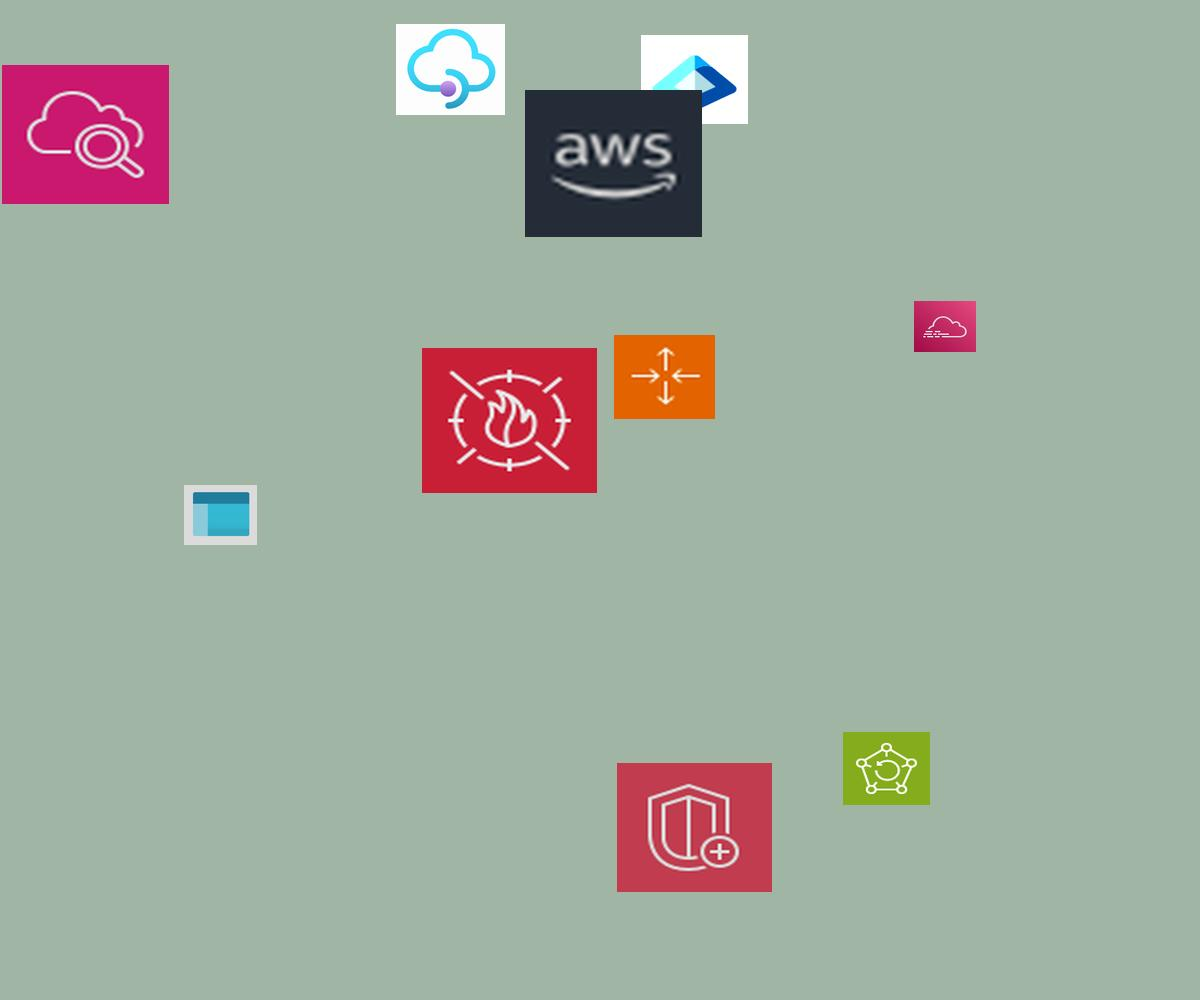AWS-Backup: (843, 732, 930, 805)
AWS-Cloud-logo: (525, 90, 702, 237)
AWS-CloudTrail: (914, 301, 976, 352)
AWS-CloudWatch: (2, 65, 169, 204)
AWS-Scaling-group: (614, 335, 715, 419)
AWS-Shield: (617, 763, 772, 892)
AWS-WAF: (422, 348, 597, 493)
Azure_api_gateway: (396, 24, 505, 115)
Azure_management-portal: (184, 485, 257, 545)
Azure_microsoft_entra: (641, 35, 748, 124)
